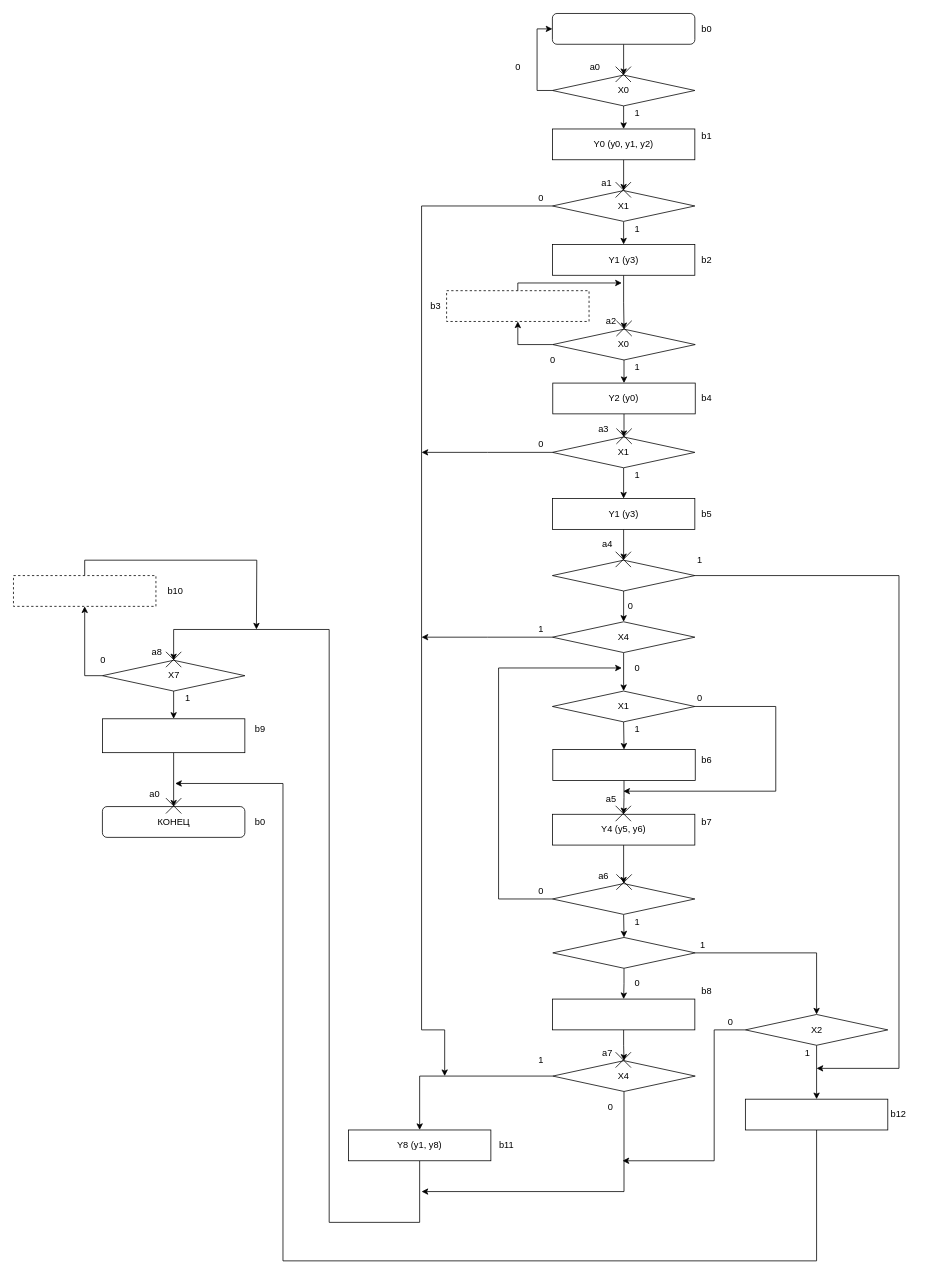
Some shapes in this 927 by 1281 pixel diagram are drawn without their labels. The centre of each missing label's shape, as x and y in pixels:
X3: the point at 623,952
X5: the point at 623,898
X6: the point at 623,575
Y3 (y4): the point at 623,764
Y5 (y6, y7): the point at 623,1014
Y6 (y10): the point at 173,735
Y7 (y9): the point at 816,1114
НАЧАЛО: the point at 623,28
